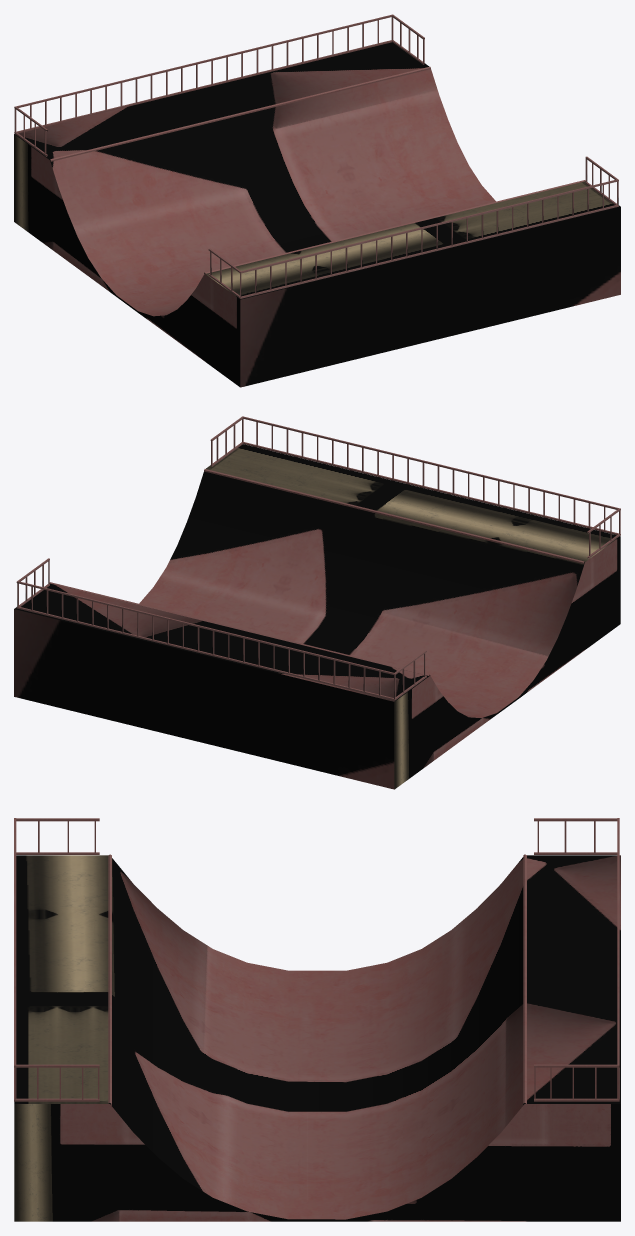
The model's file is Ramp06.fbx.
3 renders of one model, top to bottom at view 1: azimuth 30°, elevation 25°; view 2: azimuth 150°, elevation 25°; view 3: azimuth 270°, elevation 25°, orthographic. The views are drawn at different scales.
Parts seen in each view (by area): view 1: Ramp06; view 2: Ramp06; view 3: Ramp06.
Boxes of the visible parts, bbox=[...] form: Ramp06: bbox=[14, 14, 620, 387]; Ramp06: bbox=[14, 416, 620, 789]; Ramp06: bbox=[14, 818, 620, 1221].
Bounding box in the file's own units: 13.58 × 3.93 × 13.99.
